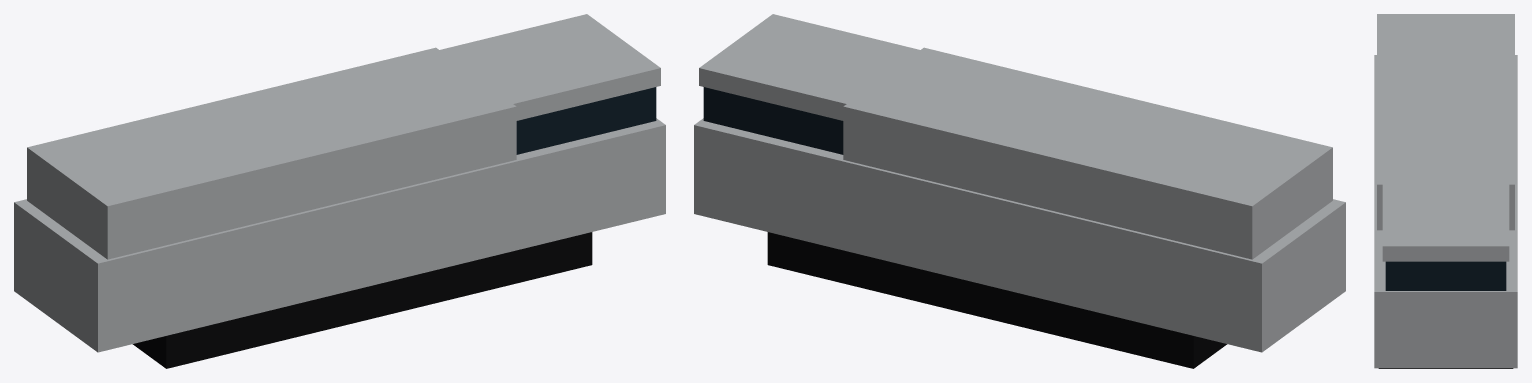
The model's file is cargo_truck.lod2.obj.
The picture shows the model from 3 angles, left to right: view 1: azimuth 30°, elevation 25°; view 2: azimuth 150°, elevation 25°; view 3: azimuth 270°, elevation 25°; orthographic projection. The views are drawn at different scales.
Visible parts, largest first — view 1: cargo_truck; view 2: cargo_truck; view 3: cargo_truck.
Boxes of the visible parts, x1,y1,x2,y2 form: cargo_truck: (14, 14, 665, 368); cargo_truck: (694, 14, 1345, 368); cargo_truck: (1374, 14, 1517, 368).
Bounding box in the file's own units: 12.1 × 3.62 × 3.1.
